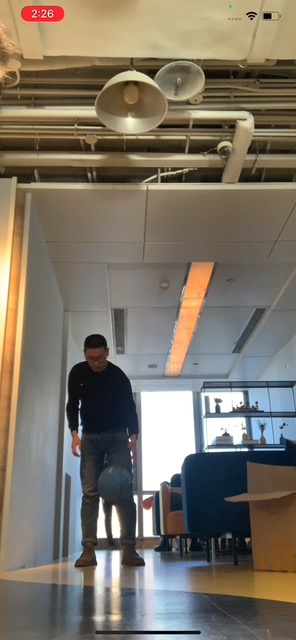ball: (97, 464, 133, 502)
